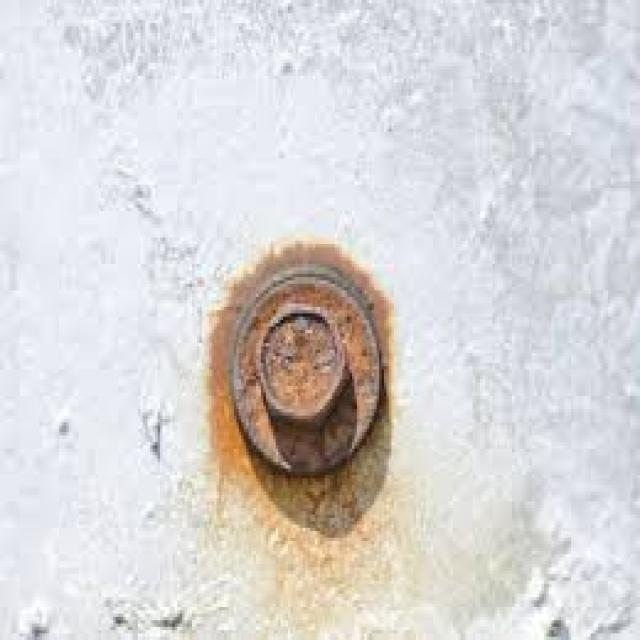Rusty bolt: (256, 302, 352, 424)
